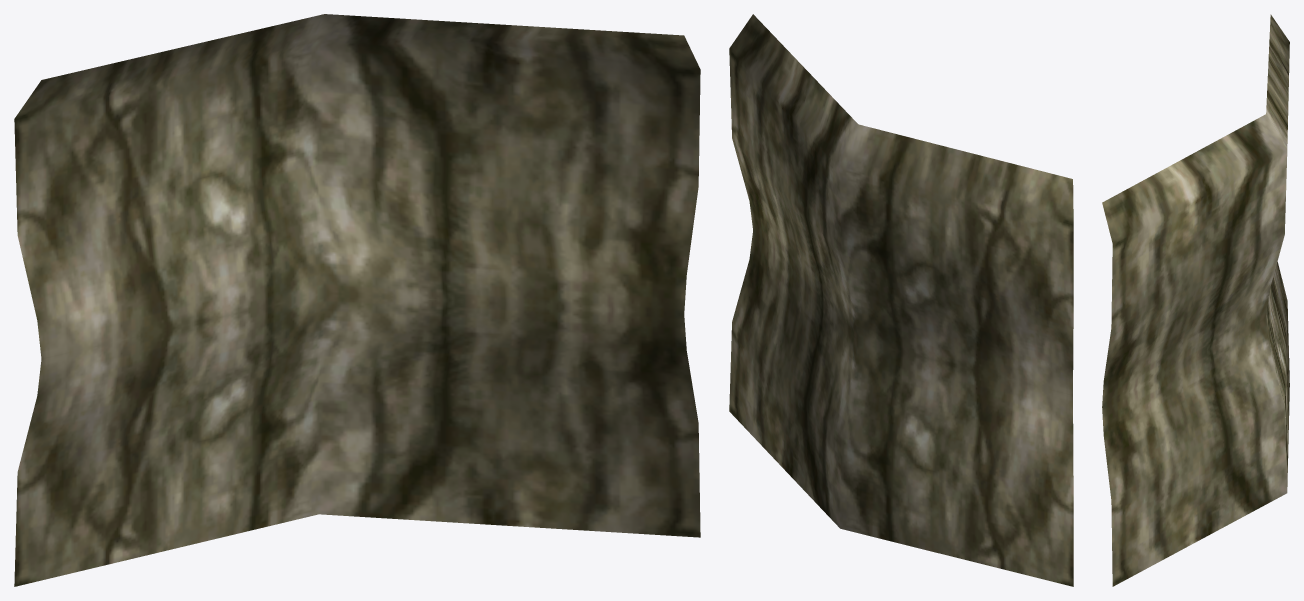
File: CB_NEWPLAYSURFACE_CB_PLAYSURFACE42.fbx
3 renders of one model, left to right at view 1: azimuth 30°, elevation 25°; view 2: azimuth 150°, elevation 25°; view 3: azimuth 270°, elevation 25°, orthographic. The views are drawn at different scales.
Visible parts, largest first — view 1: CB_NEWPLAYSURFACE_CB_PLAYSURFACE42; view 2: CB_NEWPLAYSURFACE_CB_PLAYSURFACE42; view 3: CB_NEWPLAYSURFACE_CB_PLAYSURFACE42.
Part boxes in pixels (x1,y1,x2,y2): CB_NEWPLAYSURFACE_CB_PLAYSURFACE42: (14, 14, 700, 586); CB_NEWPLAYSURFACE_CB_PLAYSURFACE42: (729, 14, 1073, 586); CB_NEWPLAYSURFACE_CB_PLAYSURFACE42: (1102, 14, 1289, 586).
Size of the model in its own units: 84771 by 73541 by 33294.
Materials: 1 (1 with a texture image).
